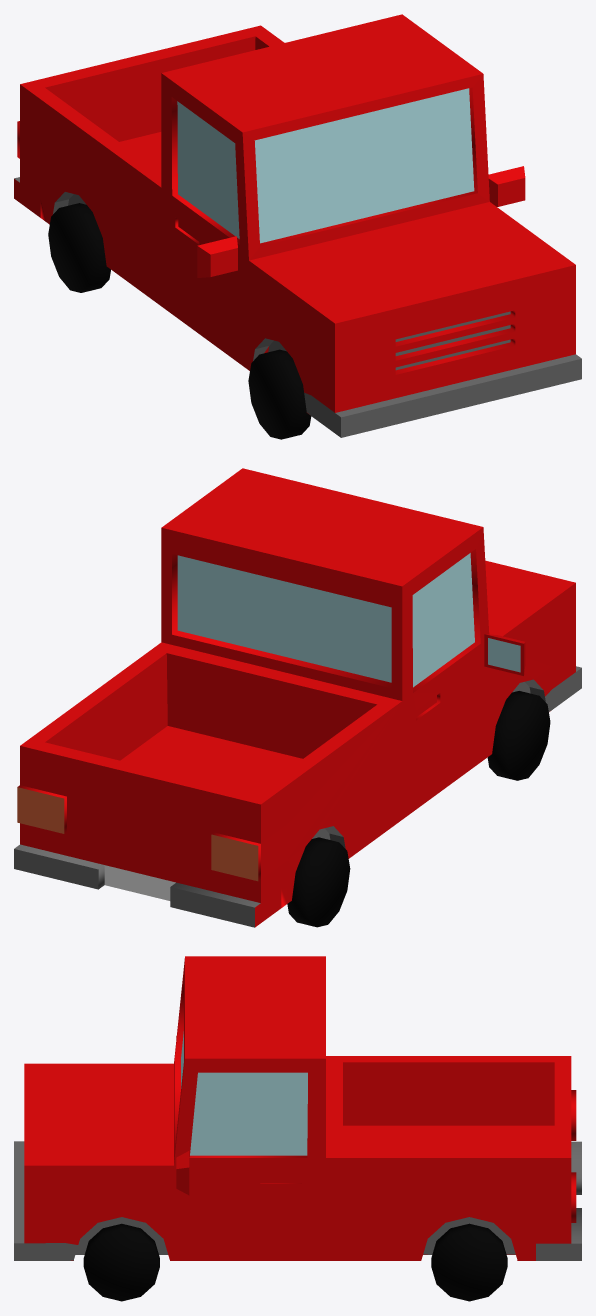
File: truck.fbx
The picture shows the model from 3 angles, top to bottom: view 1: azimuth 30°, elevation 25°; view 2: azimuth 150°, elevation 25°; view 3: azimuth 270°, elevation 25°; orthographic projection. The views are drawn at different scales.
Parts seen in each view (by area): view 1: ST_Veh_Ute_Red_Z, Wheel_fr, Wheel_rr; view 2: ST_Veh_Ute_Red_Z, Wheel_rr, Wheel_fr; view 3: ST_Veh_Ute_Red_Z, Wheel_fl, Wheel_rl.
Part boxes in pixels (<box>): ST_Veh_Ute_Red_Z: <box>14,14,581,437</box>; Wheel_fr: <box>248,349,311,439</box>; Wheel_rr: <box>48,203,110,292</box>; ST_Veh_Ute_Red_Z: <box>14,468,581,927</box>; Wheel_rr: <box>287,837,350,927</box>; Wheel_fr: <box>487,691,550,780</box>; ST_Veh_Ute_Red_Z: <box>14,956,581,1260</box>; Wheel_fl: <box>83,1223,159,1301</box>; Wheel_rl: <box>431,1223,507,1301</box>.
Size of the model in its own units: 3.16 by 2.55 by 5.48.
